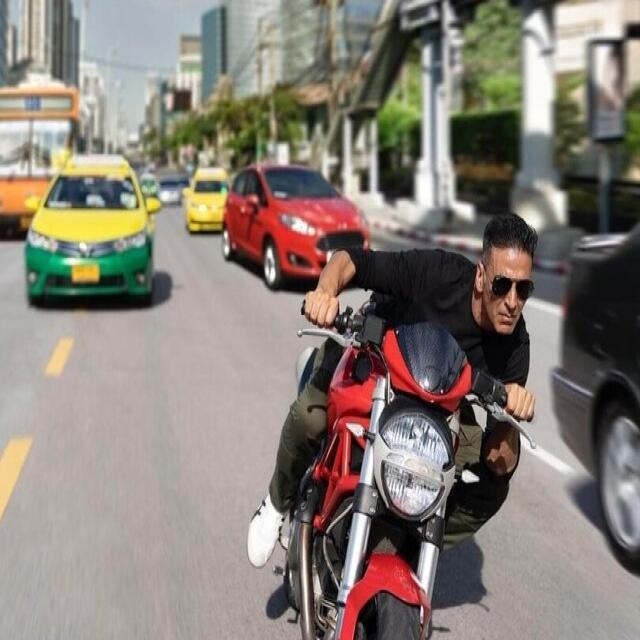no_helmet: (468, 195, 542, 347)
